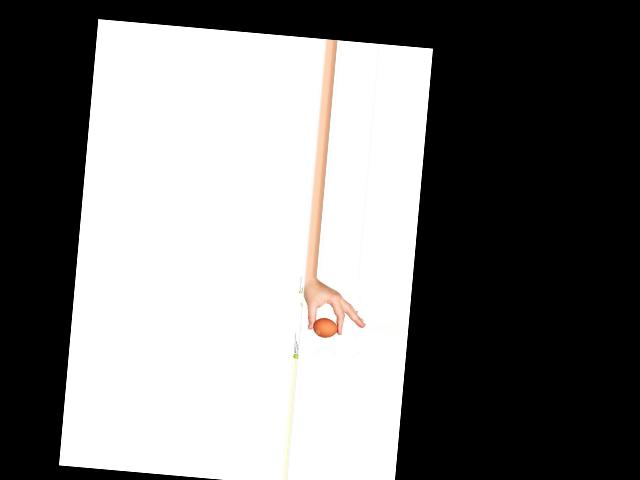egg: (311, 316, 338, 338)
